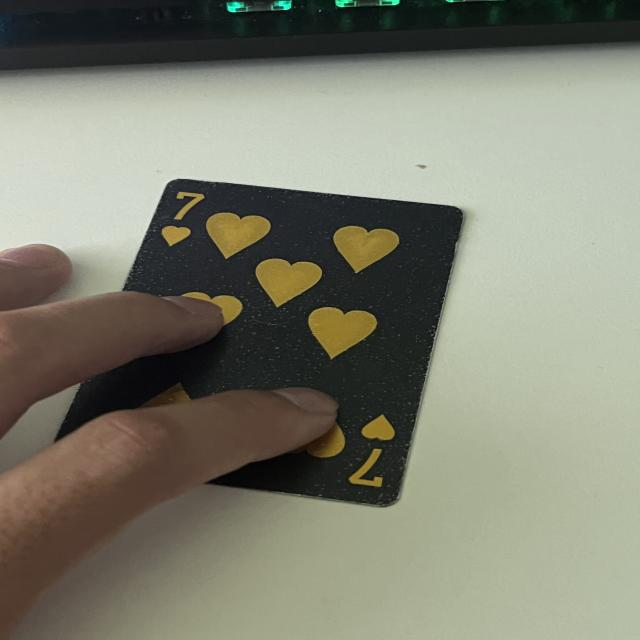7H: (349, 410, 403, 496), (158, 185, 212, 253)
